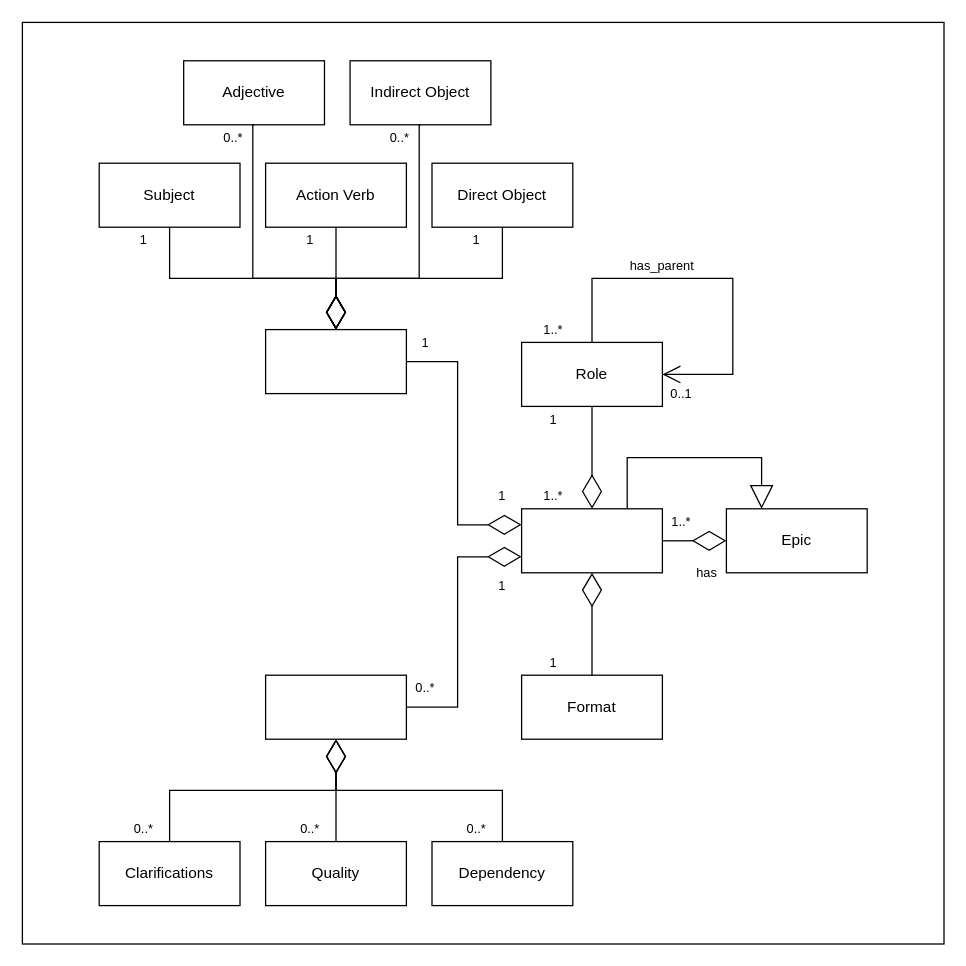
Image size: 966x966. Some labels were removed from this diagram. The shapes that lost their labels are listed below. From the top down, each one's centre as x and y in pixels, then its label:
[335,361]: Means
[591,540]: User Story
[335,706]: End
